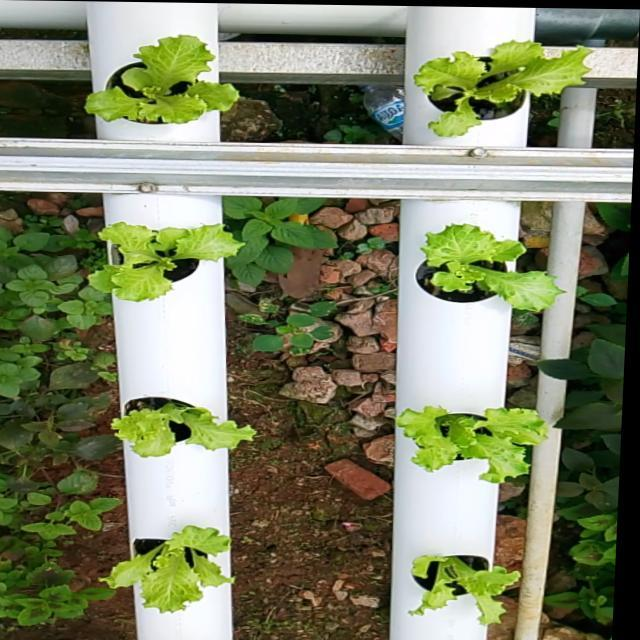Baby: (414, 38, 594, 135), (84, 29, 238, 135), (410, 215, 559, 304), (88, 217, 246, 298), (391, 398, 543, 474), (98, 517, 231, 603), (108, 389, 253, 449), (405, 545, 515, 613)
